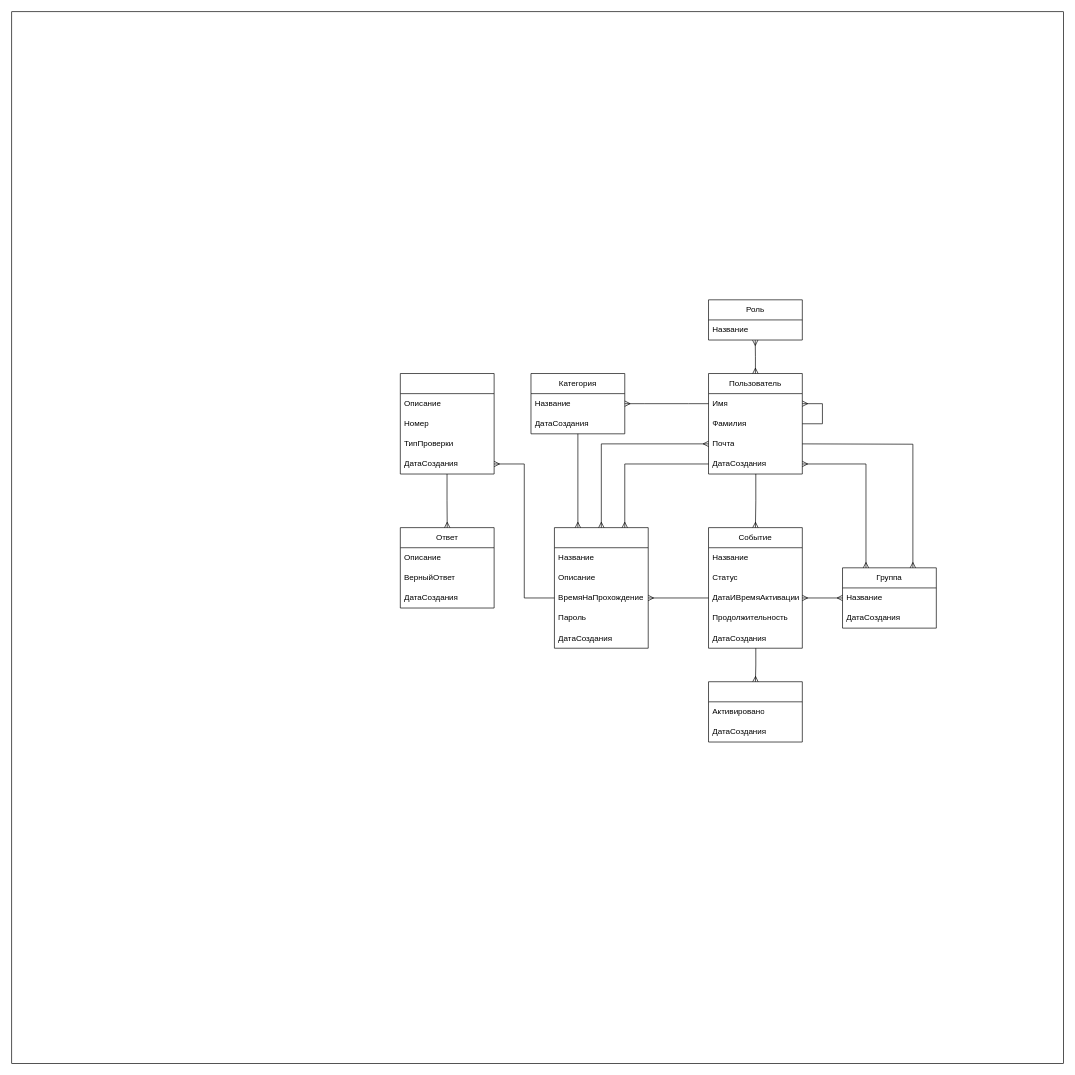
Some shapes in this 1075 by 1075 pixel diagram are drawn without their labels. The box of each missing label's shape, as (x1, y1, x2, y2) in pixels:
Викторина: (554, 527, 648, 648)
Вопрос: (400, 373, 494, 474)
Запланированное Событие: (708, 681, 802, 742)
